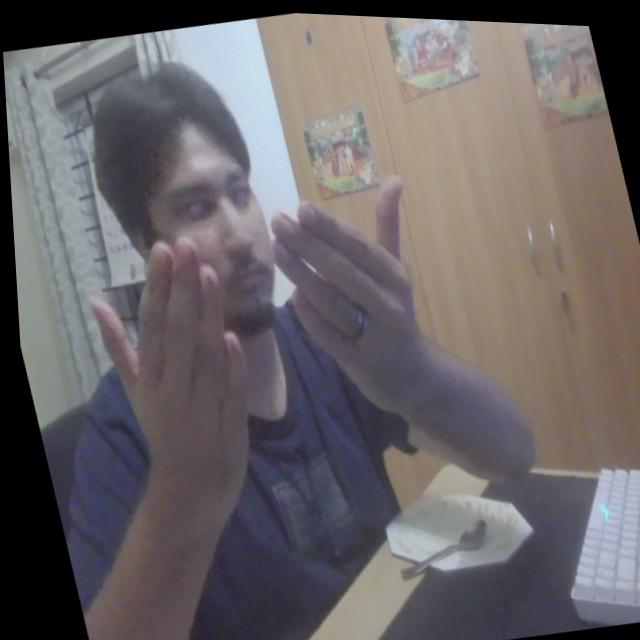thankyou: (59, 157, 470, 541)
